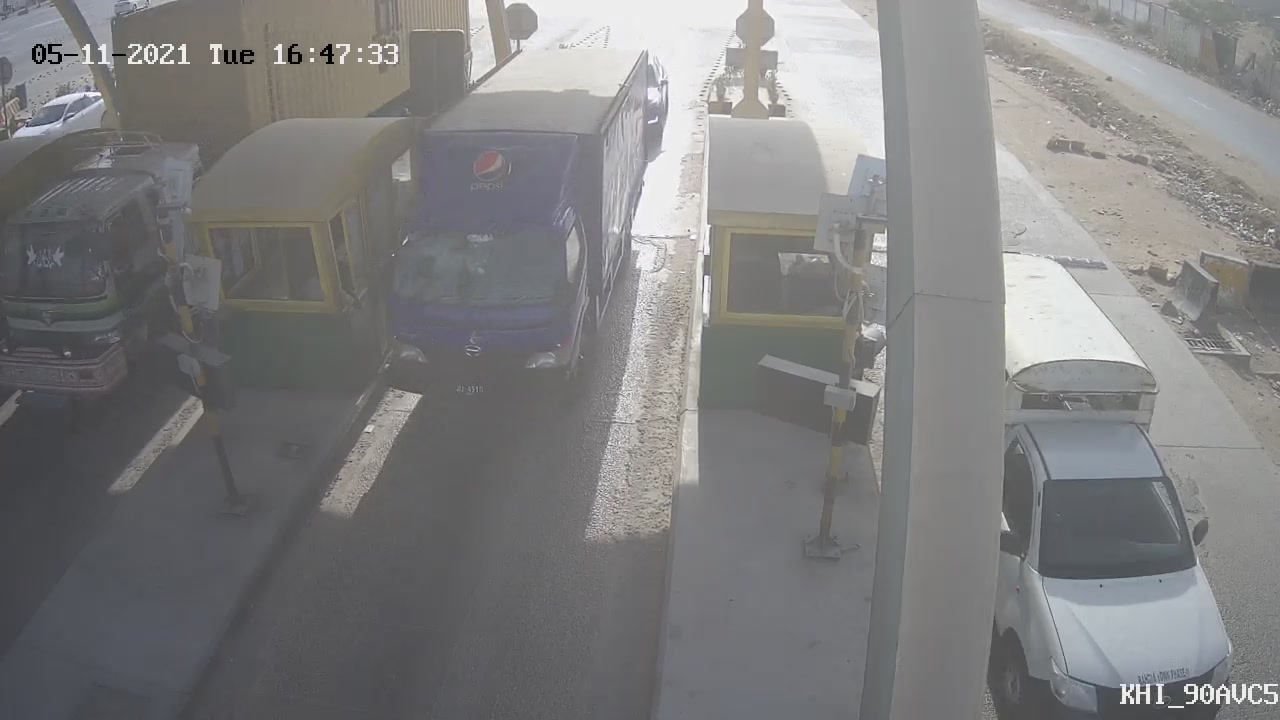F5: (329, 37, 671, 424)
